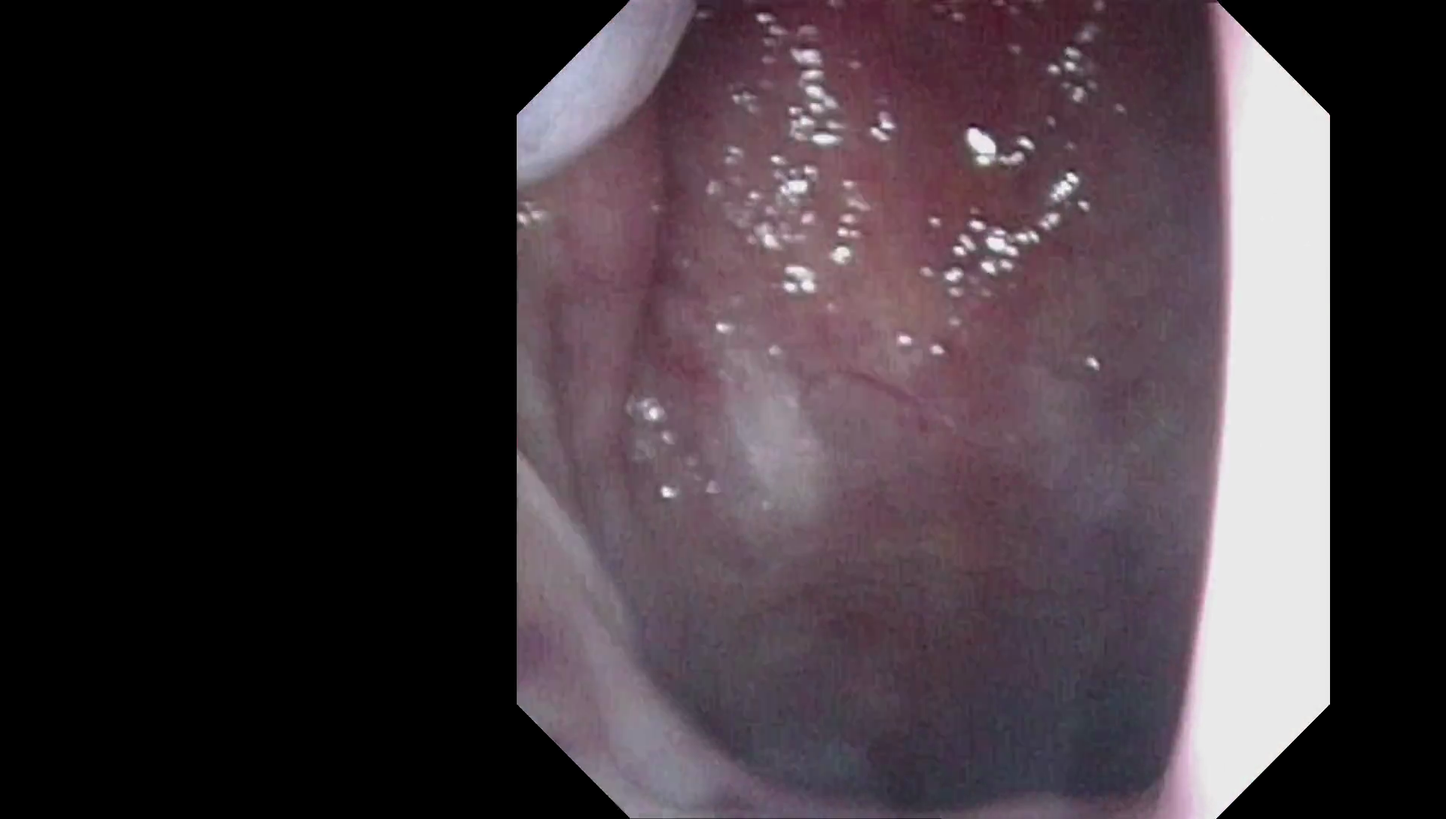close_wall: (1178, 129, 1324, 699)
next: (703, 572, 1206, 809)
